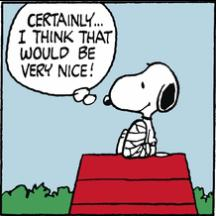snoopy: (103, 59, 182, 160)
